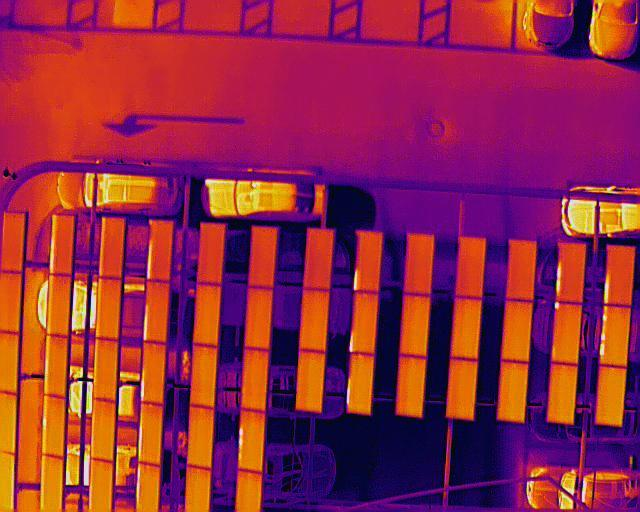Cell: (552, 304, 580, 364)
No-Anomaly: (400, 295, 430, 358), (595, 367, 625, 427), (305, 229, 334, 291), (350, 292, 379, 354), (300, 291, 330, 350), (404, 234, 433, 295), (296, 351, 324, 414), (456, 238, 485, 298), (355, 232, 384, 292), (453, 298, 480, 361), (397, 357, 425, 417), (549, 364, 577, 424), (504, 301, 531, 362), (500, 361, 527, 422), (508, 240, 534, 301), (449, 360, 476, 418), (249, 228, 275, 288), (246, 288, 271, 350), (97, 278, 122, 340), (199, 224, 225, 283), (2, 211, 27, 272), (101, 217, 126, 278), (47, 274, 72, 335), (195, 283, 220, 344), (95, 340, 120, 401), (347, 354, 372, 415), (45, 336, 70, 397), (244, 349, 268, 412), (92, 400, 116, 460), (192, 346, 215, 408), (190, 407, 212, 471), (0, 273, 22, 333), (0, 332, 20, 394)
Unclassified: (601, 306, 629, 366), (605, 246, 632, 306), (558, 243, 585, 303), (145, 281, 170, 343), (50, 215, 75, 275), (43, 396, 67, 458), (239, 410, 263, 471), (148, 221, 172, 282), (142, 343, 165, 406), (139, 404, 162, 464)
